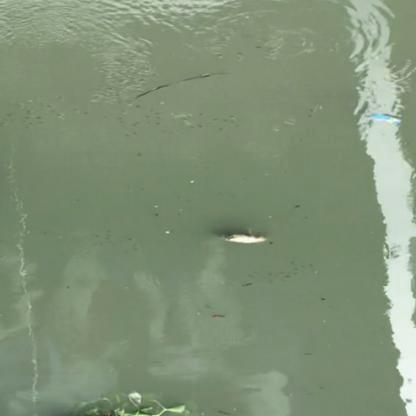Plastic: (221, 227, 265, 243)
Trash: (370, 107, 404, 135)
